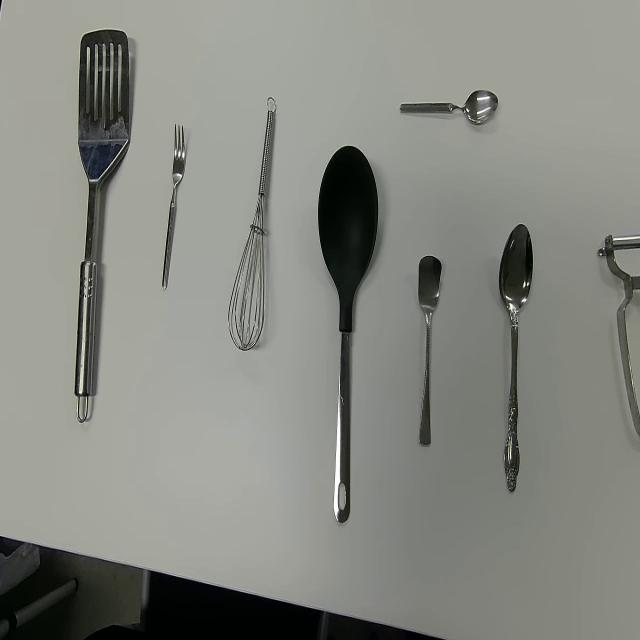Desert-Spoon: (498, 223, 534, 495)
Dinner-Fork: (162, 122, 186, 290)
Peeler: (596, 230, 640, 441)
Serving-Spoon: (317, 144, 379, 526), (74, 28, 130, 424)
Tea-Spoon: (417, 254, 442, 446), (398, 87, 499, 125)
Whisk: (227, 95, 277, 352)
